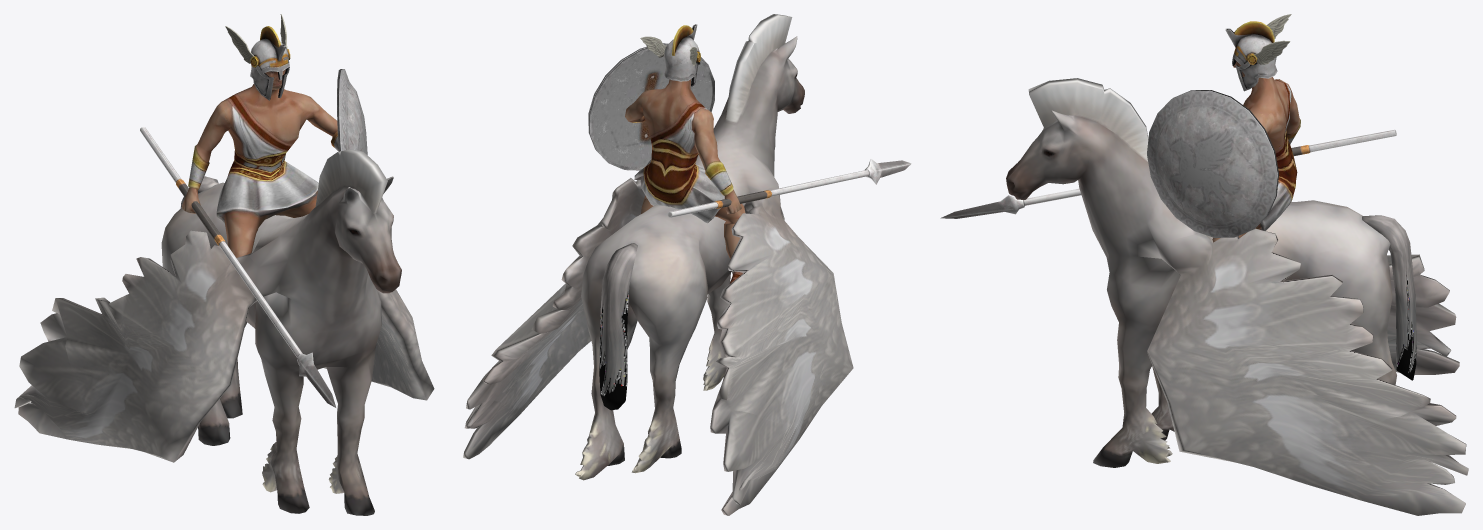
File: 114-bellerophon.glb
3 renders of one model, left to right at view 1: azimuth 30°, elevation 25°; view 2: azimuth 150°, elevation 25°; view 3: azimuth 270°, elevation 25°, orthographic. The views are drawn at different scales.
Size of the model in its own units: 2.23 by 3.11 by 3.44.
5 materials, 5 textured.
